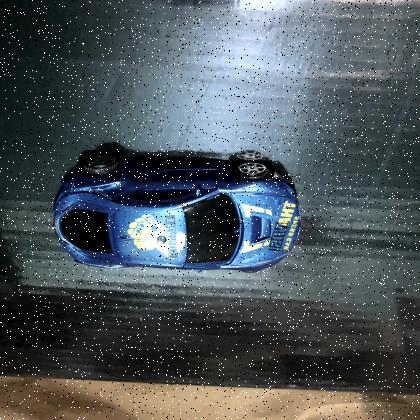Car: (52, 155, 302, 273)
